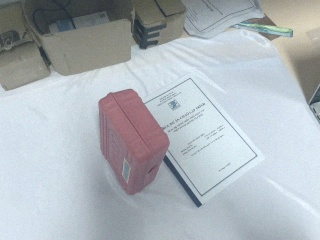box: (97, 85, 170, 203), (22, 1, 132, 75), (131, 1, 185, 49)
